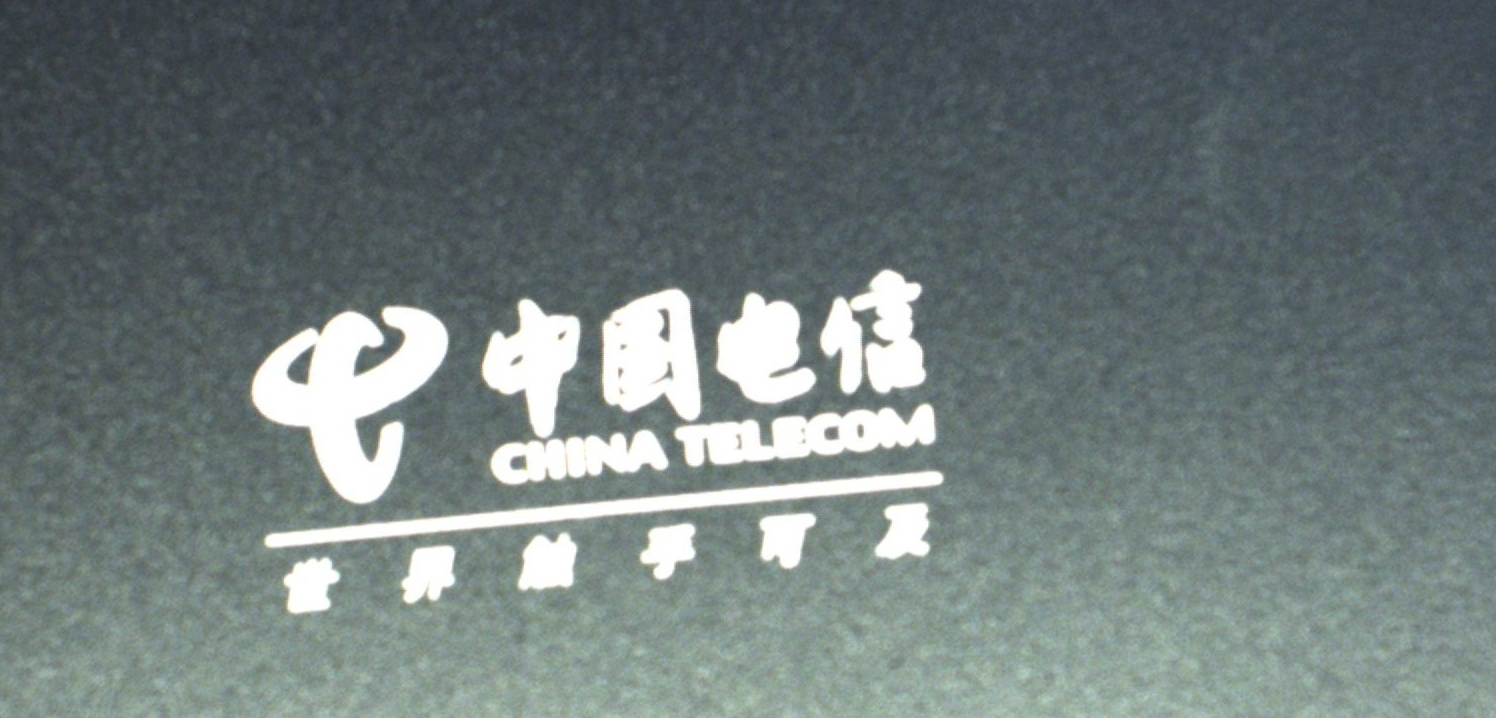AB_ChinaTelecom: (235, 267, 931, 618)
